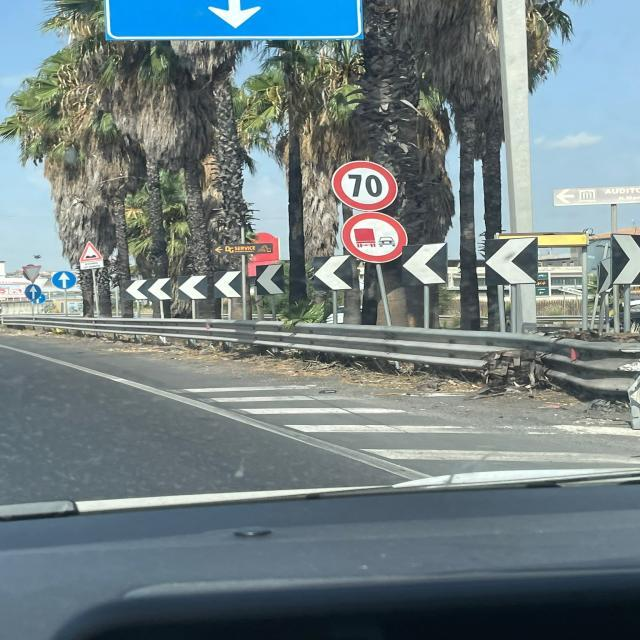forb_overtake_trucks: (340, 213, 410, 264)
forb_speed_over_70: (332, 158, 400, 212)
